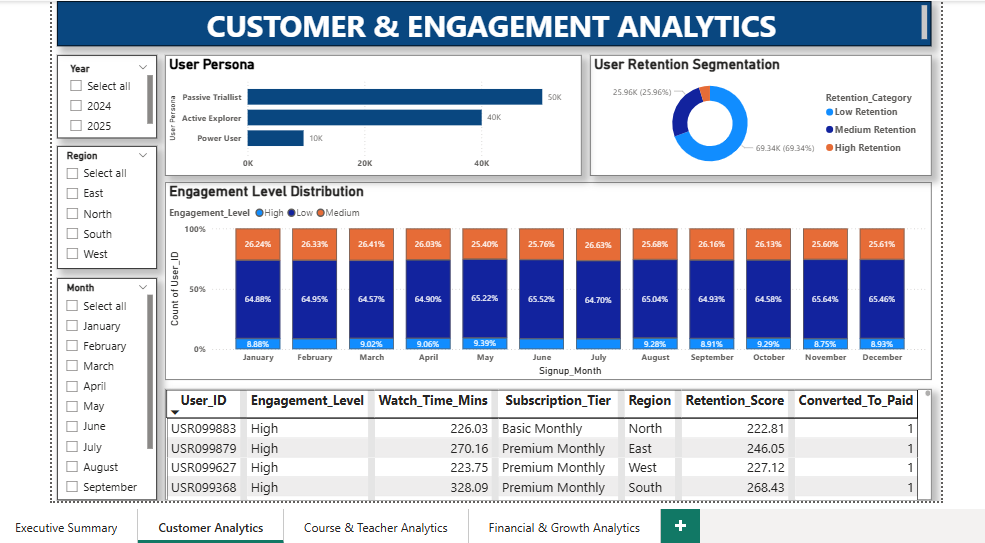

The dashboard page shown, as its layout file describes it:
{"tool":"powerbi","page":{"name":"Customer Analytics","canvas":[1280,720],"ordinal":1},"visuals":[{"type":"slicer","fields":{"Values":["Subscriptions.Signup_Year"]},"box":[7.2,77.8,144,119.5],"z":0},{"type":"slicer","fields":{"Values":["Subscriptions.Region"]},"box":[7.2,208.8,144,177.1],"z":1000},{"type":"slicer","fields":{"Values":["Subscriptions.Signup_Month"]},"box":[7.2,398.9,144,319.7],"z":2000},{"type":"textbox","box":[7.9,0,1259.5,64.8],"z":3000},{"type":"hundredPercentStackedColumnChart","title":"Engagement Level Distribution","fields":{"Category":["Subscriptions.Signup_Month"],"Y":["CountNonNull(Subscriptions.User_ID)"],"Series":["Subscriptions.Engagement_Level"]},"box":[162.7,260.6,1104.5,285.1],"z":4000},{"type":"donutChart","title":"User Retention Segmentation","fields":{"Category":["Subscriptions.Retention_Category"],"Y":["CountNonNull(Subscriptions.User_ID)"]},"box":[774.7,77.8,492.5,174.2],"z":5000},{"type":"clusteredBarChart","title":"User Persona","fields":{"Category":["Subscriptions.User Persona"],"Y":["CountNonNull(Subscriptions.User_ID)"]},"box":[162.7,77.8,600.5,174.2],"z":6000},{"type":"tableEx","fields":{"Values":["Subscriptions.User_ID","Subscriptions.Engagement_Level","Subscriptions.Watch_Time_Mins","Subscriptions.Subscription_Tier","Subscriptions.Region","Subscriptions.Retention_Score","Subscriptions.Converted_To_Paid"]},"box":[162.7,558.7,1104.5,159.8],"z":7000}]}

Visuals, with their boxes in screenshot pixels (x1, y1, x2, y2), scaled from the page's 1280x720 canvas onto the 985x543 screenshot:
slicer - Subscriptions.Signup_Year: [6,59,116,149]
slicer - Subscriptions.Region: [6,157,116,291]
slicer - Subscriptions.Signup_Month: [6,301,116,542]
textbox: [6,0,975,49]
"Engagement Level Distribution" hundredPercentStackedColumnChart: [125,197,975,412]
"User Retention Segmentation" donutChart: [596,59,975,190]
"User Persona" clusteredBarChart: [125,59,587,190]
tableEx - Subscriptions.User_ID x Subscriptions.Engagement_Level: [125,421,975,542]
